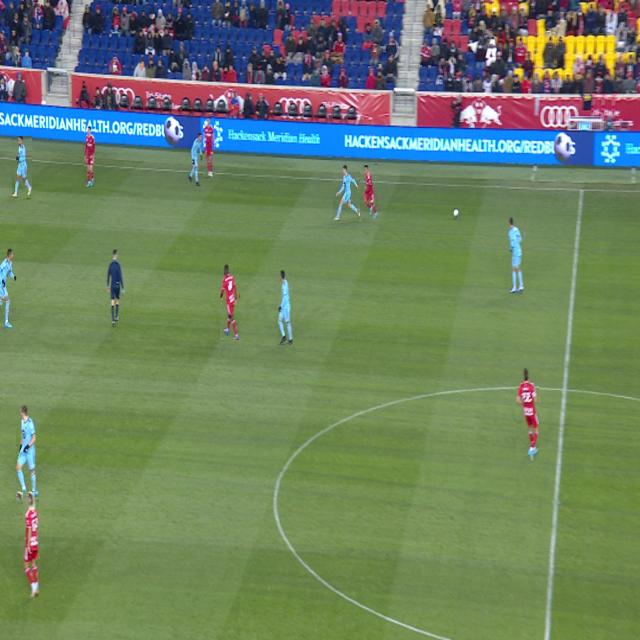football: (453, 208, 459, 218)
player: (517, 369, 539, 462), (16, 406, 36, 500), (24, 492, 39, 598), (334, 165, 360, 221), (221, 264, 239, 340), (0, 249, 16, 328), (12, 137, 32, 198), (509, 218, 524, 293), (278, 270, 293, 344), (364, 165, 378, 218), (189, 133, 203, 186), (84, 126, 95, 187), (204, 116, 214, 177)
referee: (107, 250, 125, 326)
